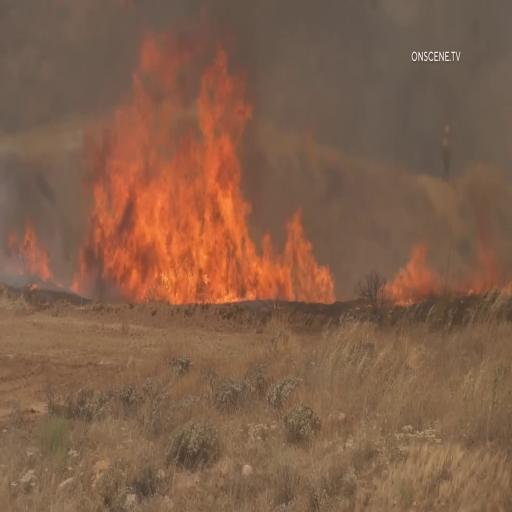fire: (92, 34, 340, 306), (380, 233, 458, 313), (2, 201, 60, 295)
